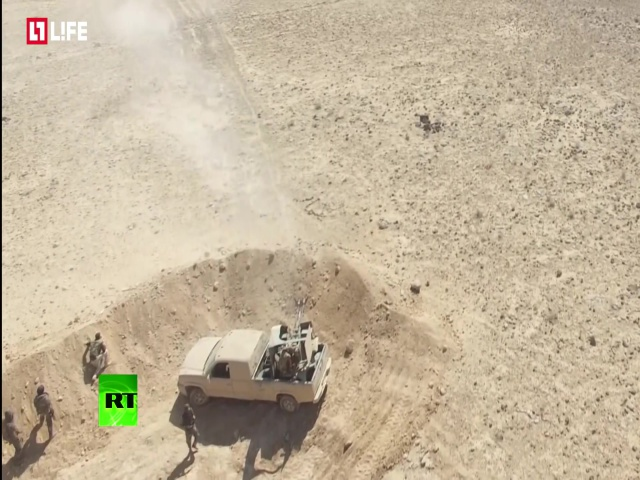person: (31, 386, 55, 443), (180, 399, 201, 460), (1, 407, 23, 462), (82, 331, 109, 372)
vehicle: (175, 329, 337, 406)
